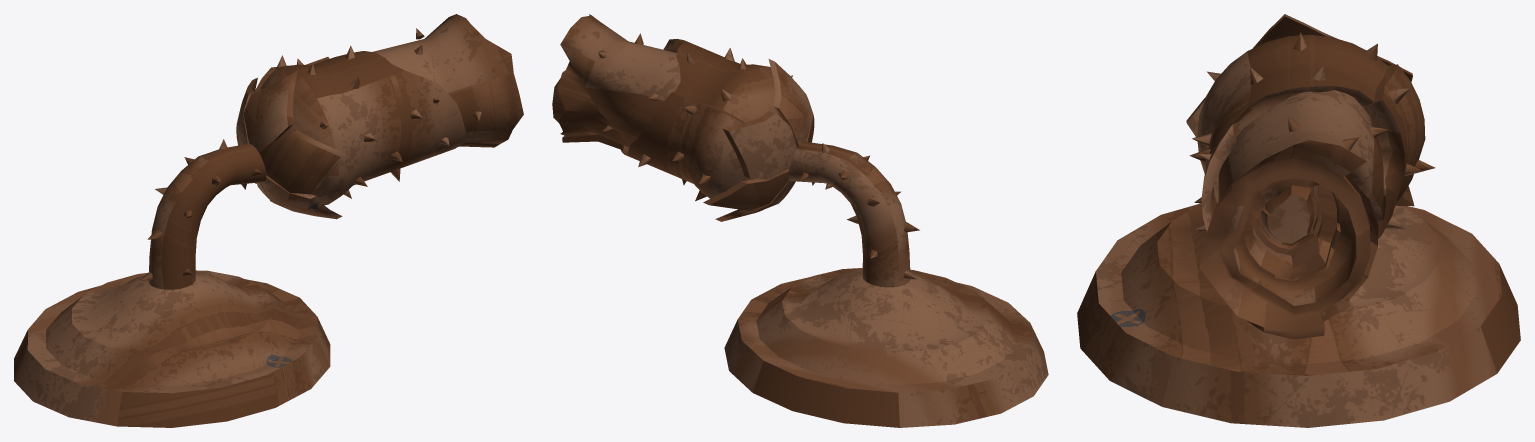
Rendered from cañon_pitaya.fbx.
3 renders of one model, left to right at view 1: azimuth 30°, elevation 25°; view 2: azimuth 150°, elevation 25°; view 3: azimuth 270°, elevation 25°, orthographic. The views are drawn at different scales.
Visible parts, largest first — view 1: Cylinder003; view 2: Cylinder003; view 3: Cylinder003.
Part boxes in pixels (left/top/right/bottom): Cylinder003: left=14, top=14, right=523, bottom=427; Cylinder003: left=552, top=14, right=1048, bottom=427; Cylinder003: left=1077, top=14, right=1520, bottom=427.
Bounding box in the file's own units: 386 × 381 × 687.
